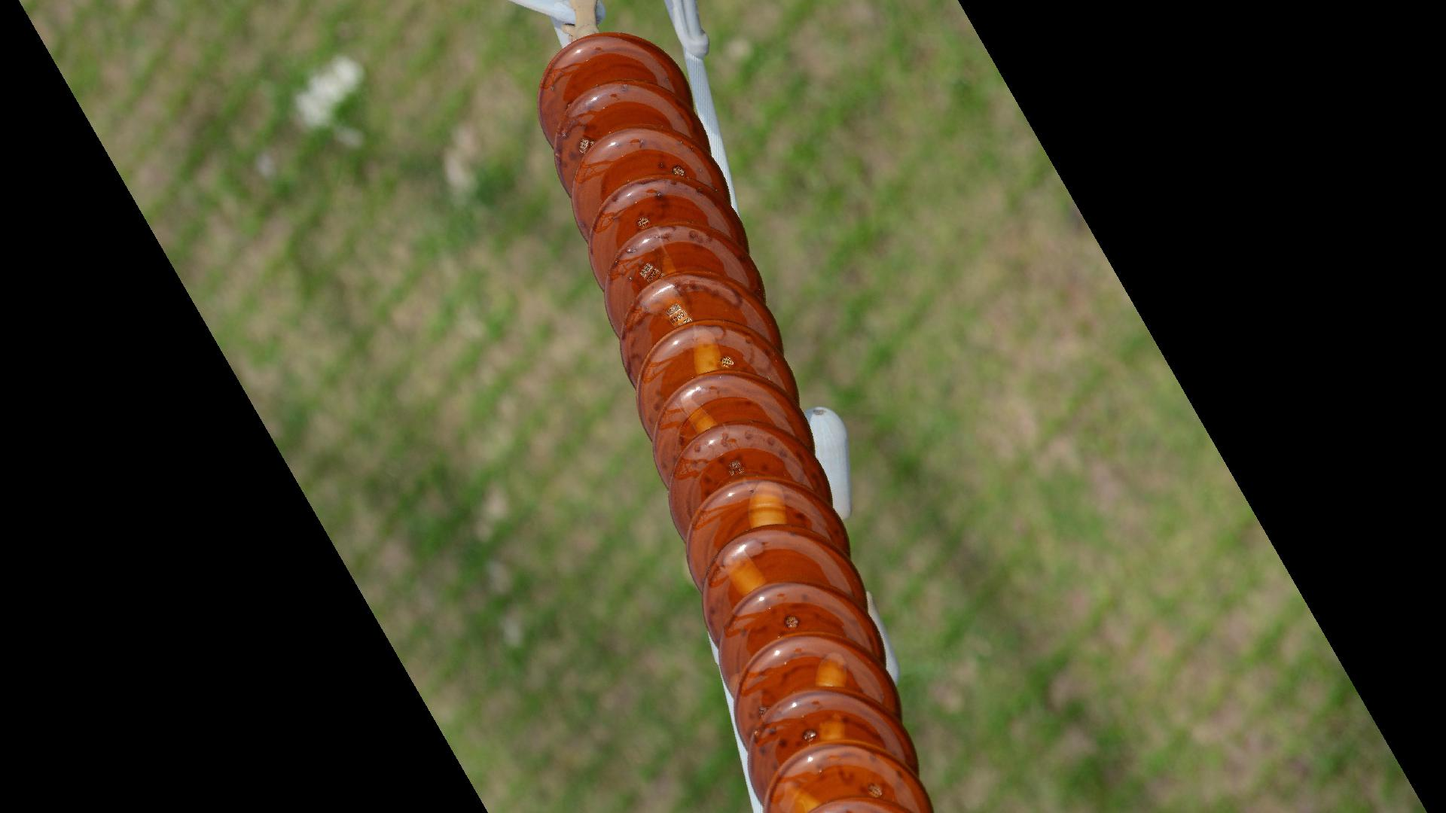insulator: (530, 29, 944, 813)
insulator_flashover: (718, 541, 771, 595), (745, 478, 789, 534), (687, 323, 726, 378), (676, 391, 721, 435), (809, 649, 853, 691), (775, 775, 822, 813), (943, 708, 944, 708)
